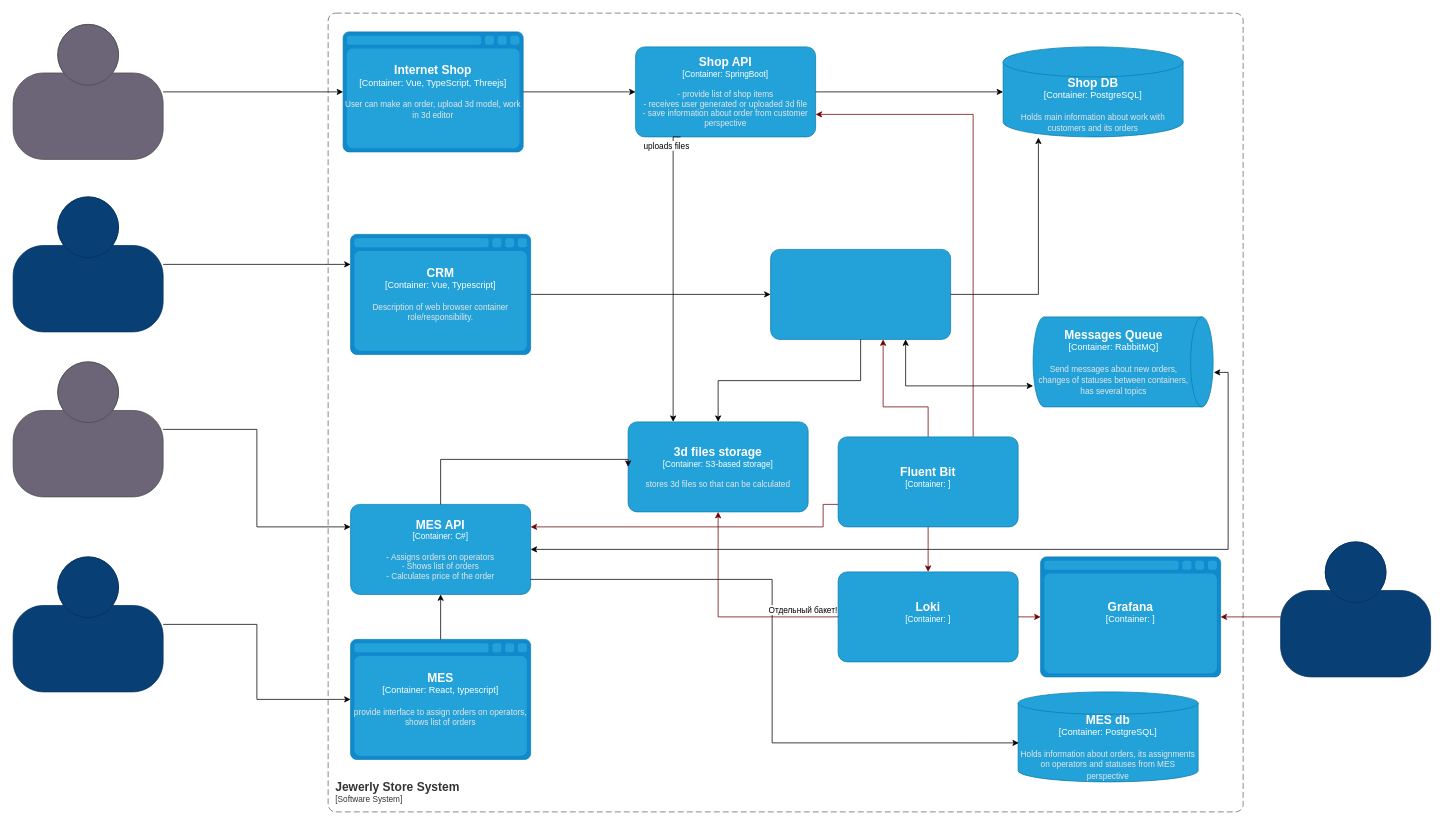
Image size: 1444x825. Some labels were removed from this diagram. The shapes that lost their labels are listed below. From the top down, each one's box as (x1, y1, x2, y2) in pixels, then its label:
(12, 24, 163, 159): Customer [Person] Description of external person.
(12, 196, 163, 332): Seller [Person] Operates with order, confirms manufacturing for the user
(770, 249, 951, 339): CRM API [Container: SpringBoot] Description of container role/responsibility.
(12, 361, 163, 497): API user [Person] Description of external person.
(12, 556, 163, 692): Operator [Person] Takes order in work, manufactures jewerly
(1280, 541, 1431, 677): Support [Person] Tracing
